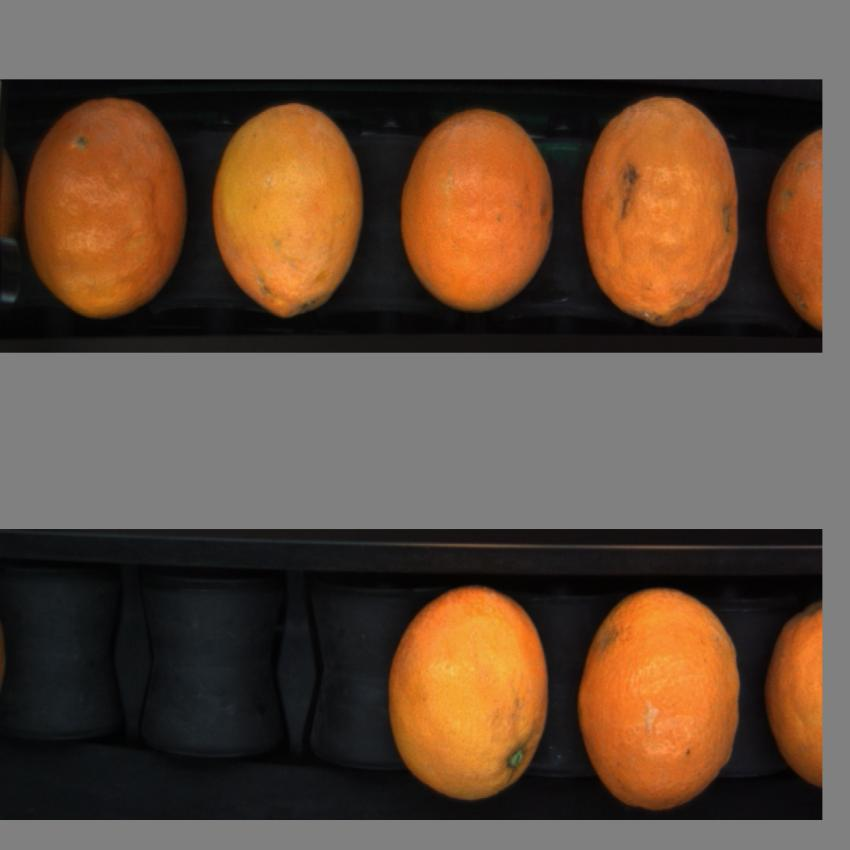Buen estado: (574, 585, 746, 804), (207, 100, 369, 321), (387, 578, 549, 792), (396, 104, 561, 312), (762, 594, 824, 788)
Mal estado: (576, 83, 741, 321), (22, 90, 192, 316), (765, 126, 823, 329)
